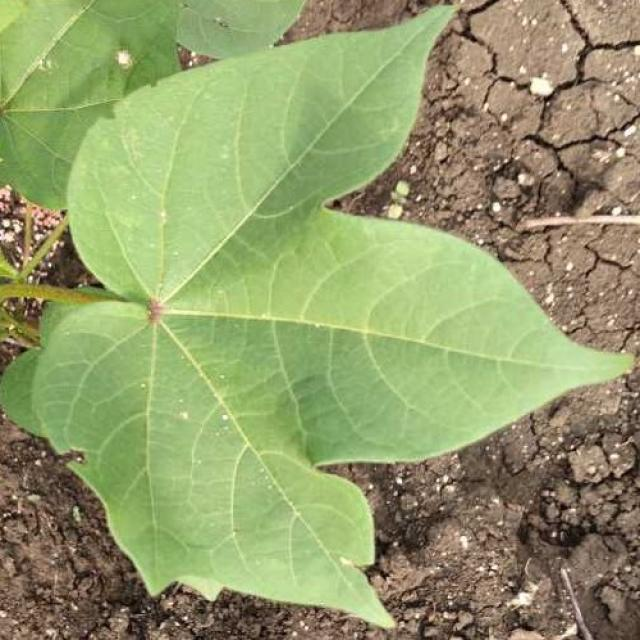Healthy Leaf: (7, 1, 640, 639)
